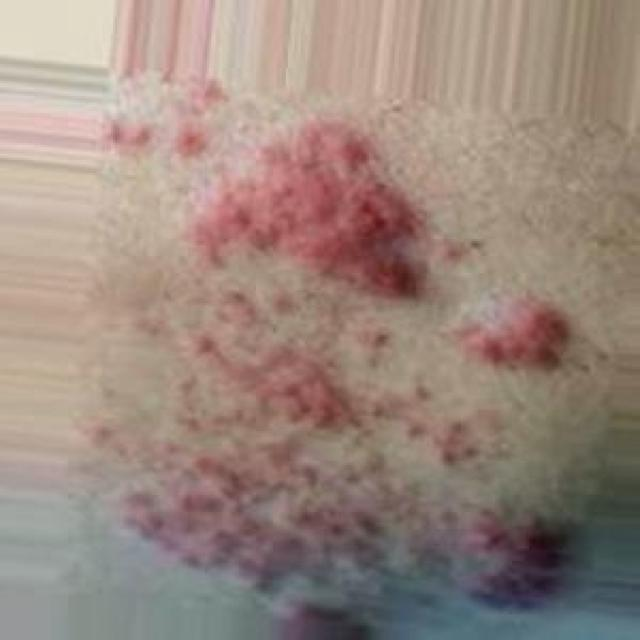Shingles: (108, 80, 574, 609)
